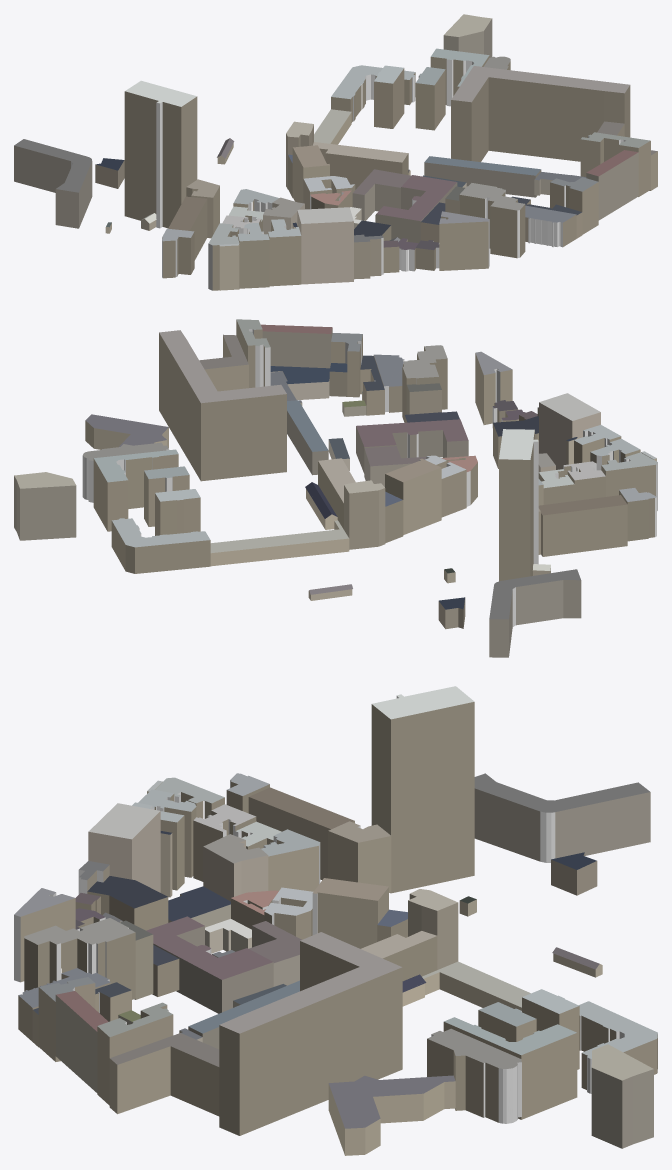
The picture shows the model from 3 angles, top to bottom: view 1: azimuth 30°, elevation 25°; view 2: azimuth 150°, elevation 25°; view 3: azimuth 270°, elevation 25°; orthographic projection. The views are drawn at different scales.
Parts seen in each view (by area): view 1: tuile; view 2: tuile; view 3: tuile.
Part boxes in pixels (left/top/right/bottom): tuile: left=14, top=14, right=657, bottom=290; tuile: left=14, top=319, right=657, bottom=657; tuile: left=14, top=686, right=657, bottom=1155.
Bounding box in the file's own units: 290 × 71.31 × 227.
